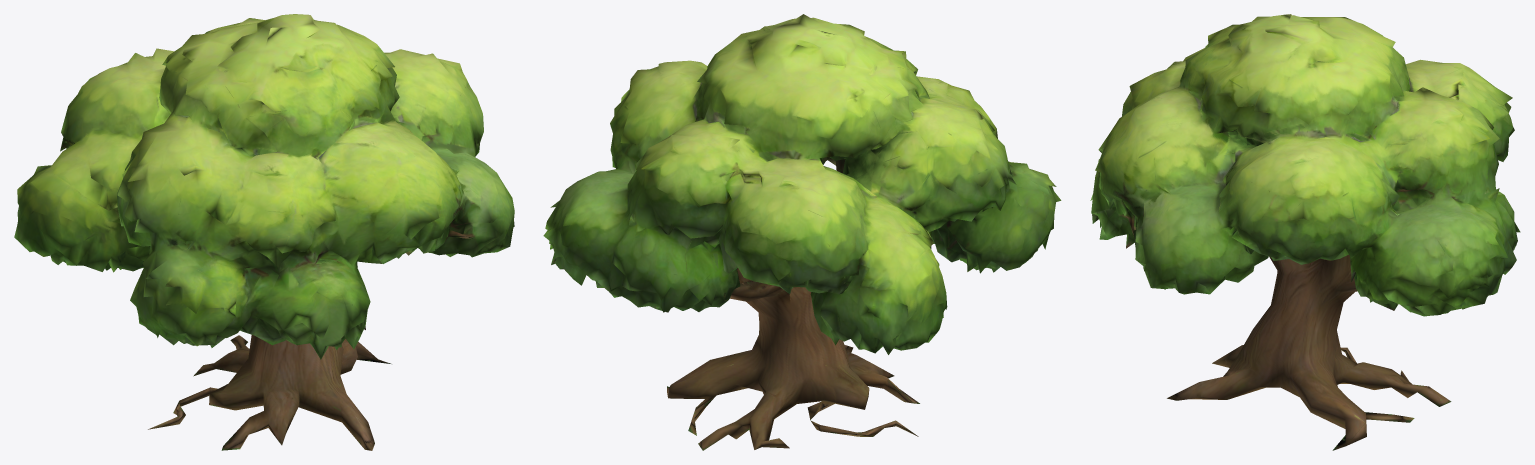
The model's file is Meshy_AI_arbol_1217011110_texture.fbx.
3 renders of one model, left to right at view 1: azimuth 30°, elevation 25°; view 2: azimuth 150°, elevation 25°; view 3: azimuth 270°, elevation 25°, orthographic. The views are drawn at different scales.
Visible parts, largest first — view 1: Mesh_0; view 2: Mesh_0; view 3: Mesh_0.
Part boxes in pixels (x1,y1,x2,y2): Mesh_0: (14, 14, 514, 450); Mesh_0: (543, 14, 1061, 450); Mesh_0: (1090, 14, 1520, 450).
Bounding box in the file's own units: 199 × 191 × 200.
1 material, 1 textured.
